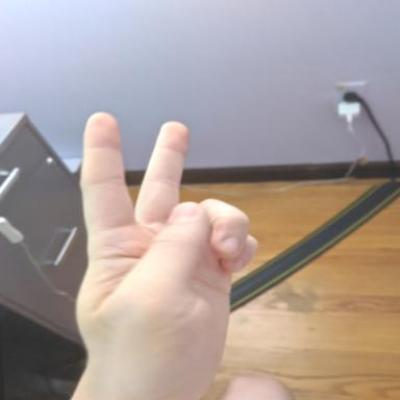hand: (49, 93, 276, 399)
